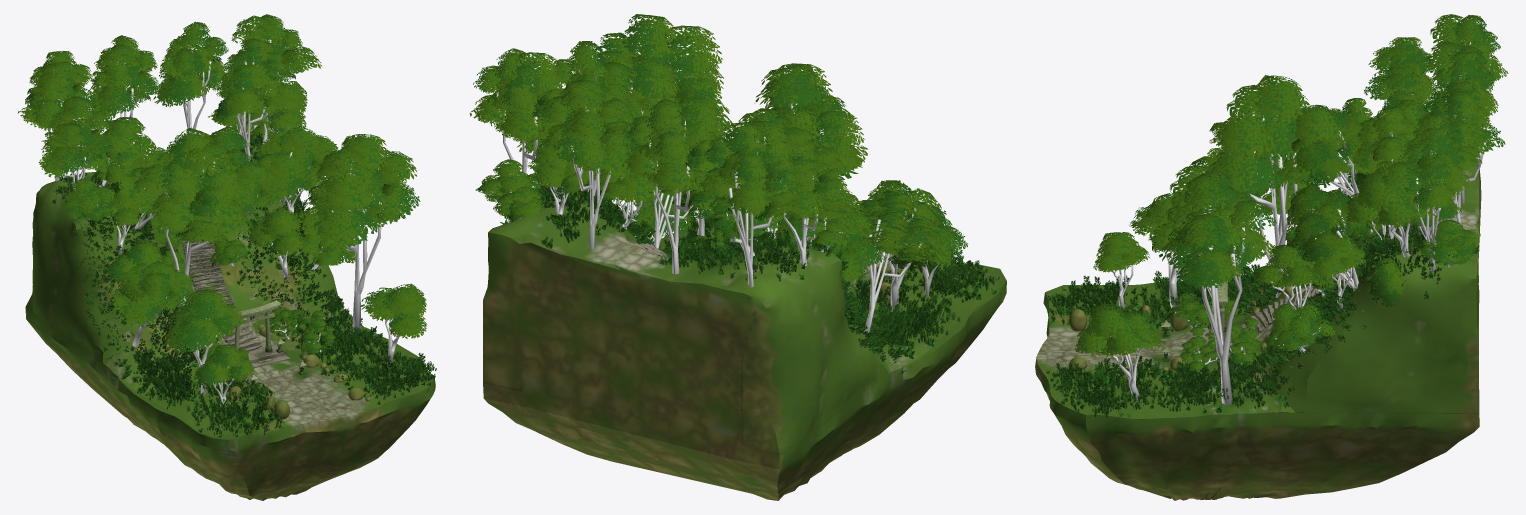
The model's file is shrine_01.fbx.
The picture shows the model from 3 angles, left to right: view 1: azimuth 30°, elevation 25°; view 2: azimuth 150°, elevation 25°; view 3: azimuth 270°, elevation 25°; orthographic projection. The views are drawn at different scales.
Parts seen in each view (by area): view 1: gorund, den_tr_03, weed_grass_, den_tr_01, den_tr_02, Icosphere; view 2: gorund, den_tr_03, weed_grass_, den_tr_01, den_tr_02; view 3: gorund, den_tr_03, weed_grass_, den_tr_01, den_tr_02, Icosphere.
Part boxes in pixels (left/top/right/bottom): gorund: left=25, top=135, right=435, bottom=500; den_tr_03: left=17, top=14, right=420, bottom=347; weed_grass_: left=52, top=132, right=436, bottom=437; den_tr_01: left=106, top=81, right=427, bottom=411; den_tr_02: left=63, top=113, right=355, bottom=379; Icosphere: left=209, top=324, right=370, bottom=419; gorund: left=483, top=192, right=1006, bottom=500; den_tr_03: left=469, top=14, right=943, bottom=332; weed_grass_: left=500, top=181, right=999, bottom=374; den_tr_01: left=517, top=90, right=967, bottom=311; den_tr_02: left=475, top=159, right=873, bottom=294; gorund: left=1035, top=162, right=1481, bottom=500; den_tr_03: left=1159, top=14, right=1508, bottom=405; weed_grass_: left=1046, top=168, right=1479, bottom=418; den_tr_01: left=1074, top=143, right=1462, bottom=401; den_tr_02: left=1167, top=98, right=1480, bottom=374; Icosphere: left=1060, top=285, right=1291, bottom=374.
Bounding box in the file's own units: 2694 × 3152 × 3268.
